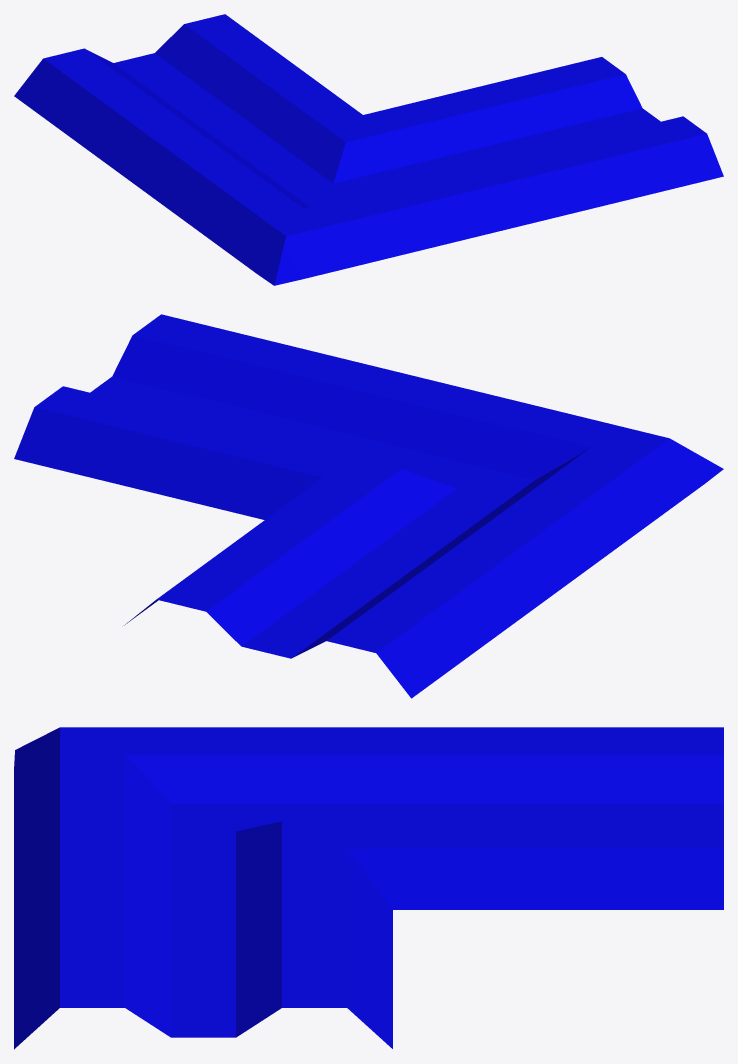
Rendered from M6_HM_F_channelcorner_28-07-2020.fbx.
3 views of the same model, one above another, from view 1: azimuth 30°, elevation 25°; view 2: azimuth 150°, elevation 25°; view 3: azimuth 270°, elevation 25° (orthographic). The views are drawn at different scales.
Parts seen in each view (by area): view 1: polySurface414; view 2: polySurface414; view 3: polySurface414.
Boxes of the visible parts, <box> form: polySurface414: <box>14,14,723,285</box>; polySurface414: <box>14,314,723,698</box>; polySurface414: <box>14,727,723,1049</box>.
Size of the model in its own units: 136 by 8.84 by 136.
